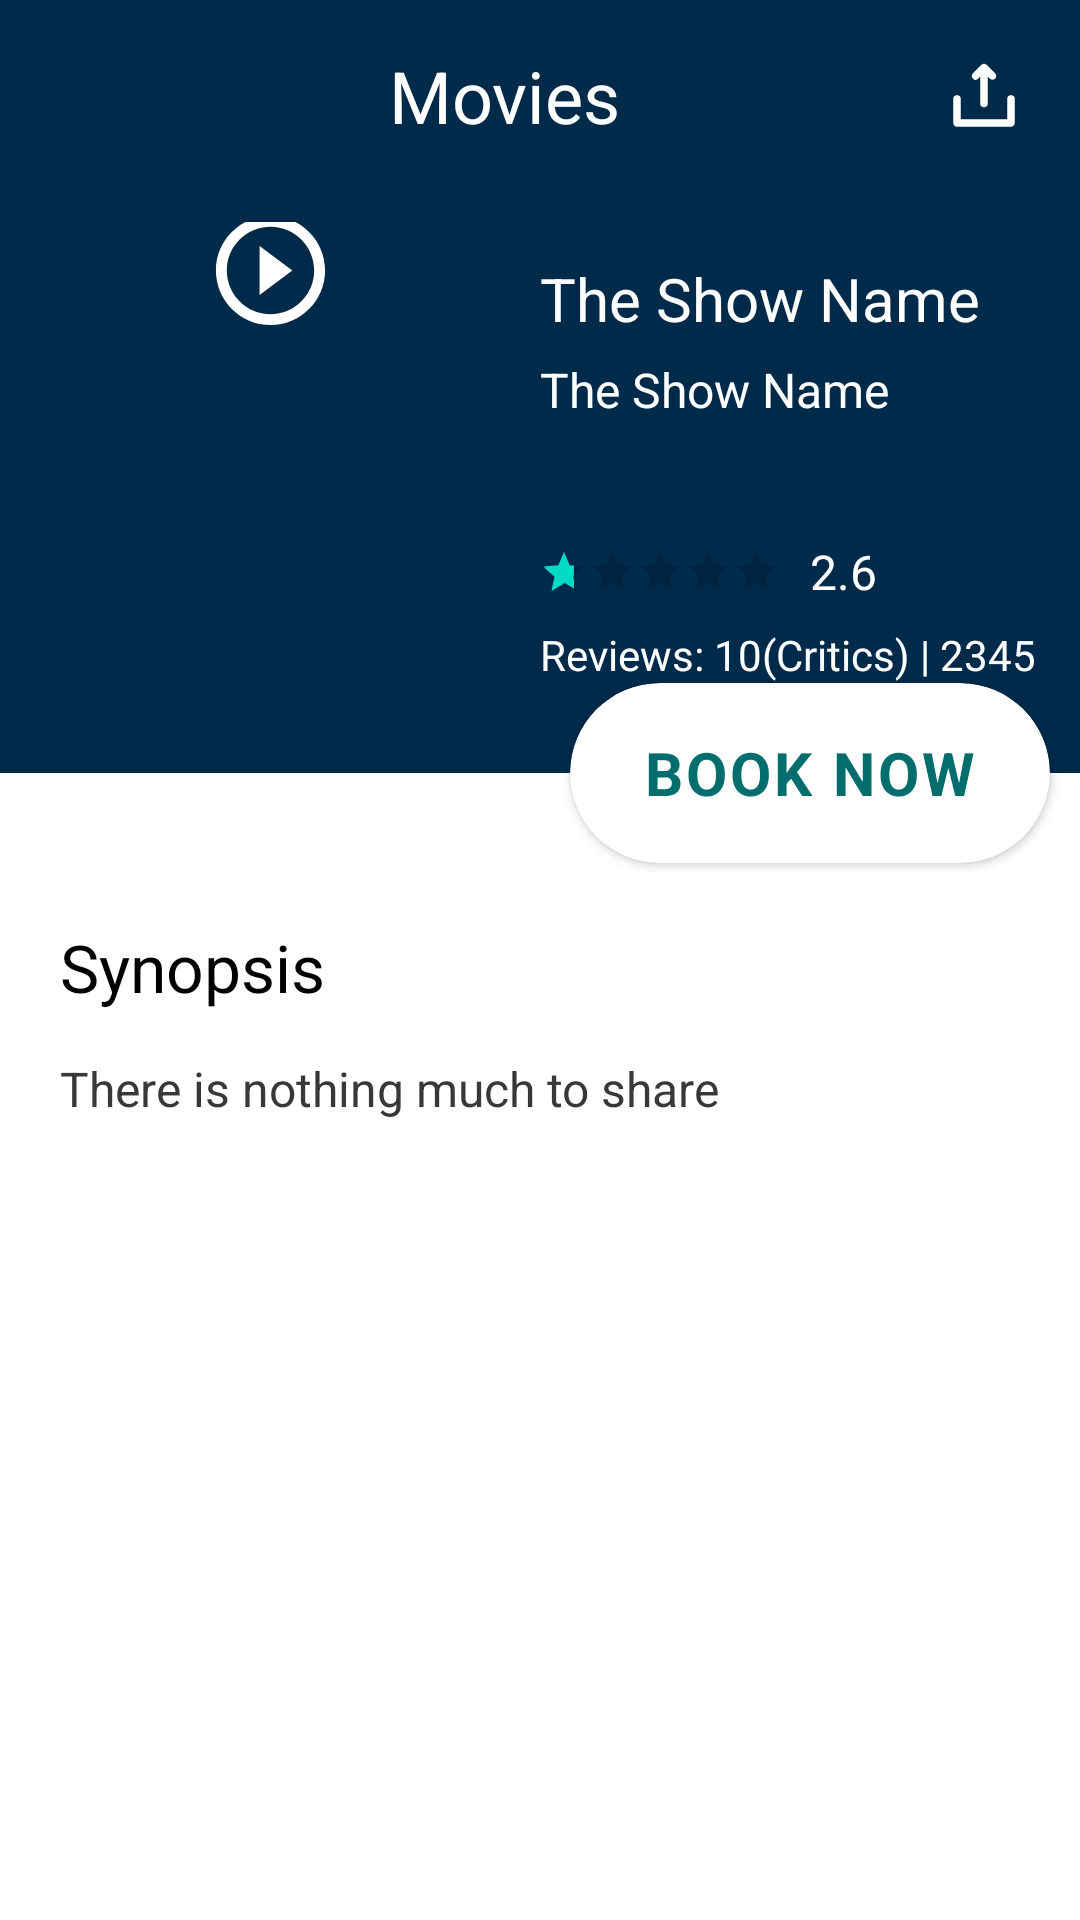

Icon bounding boxes for this 1080w x 1920h phone screenshot, format bbox=[x1, y1, x2, y2]:
play circle: bbox=[216, 222, 325, 325]
share: bbox=[953, 63, 1015, 127]
